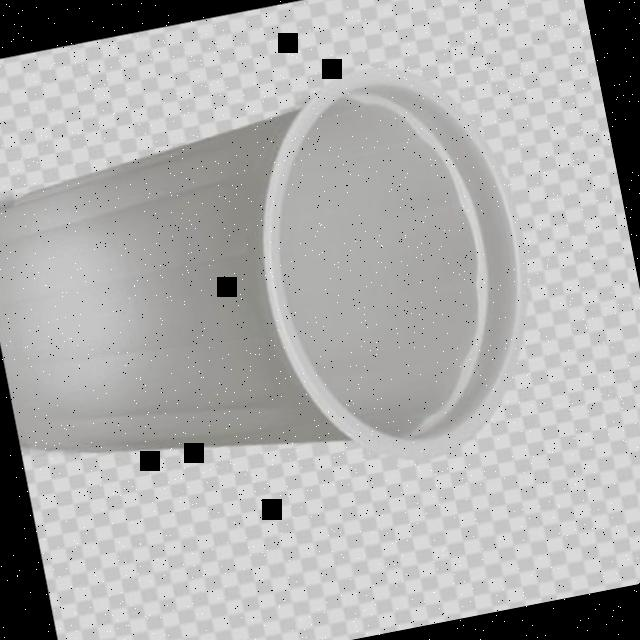plastic_cup: (0, 48, 554, 533)
